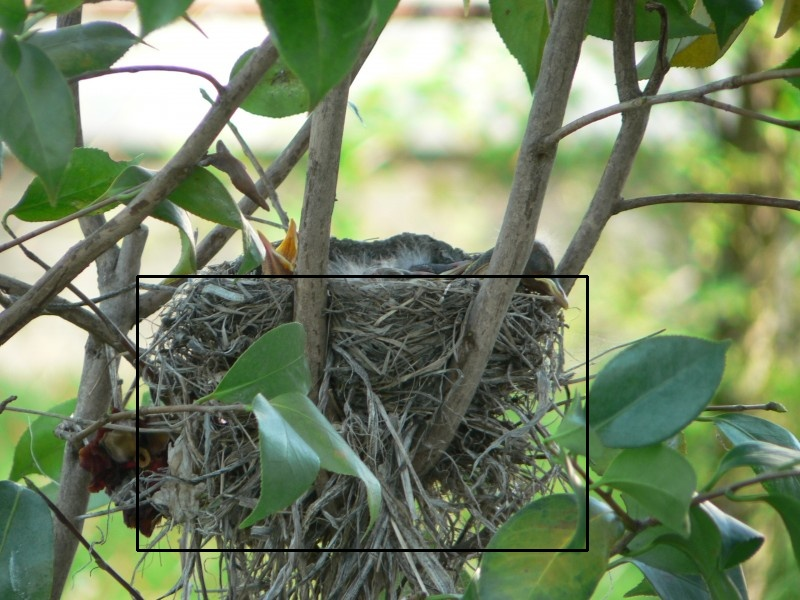bird-nest: (140, 227, 569, 592)
